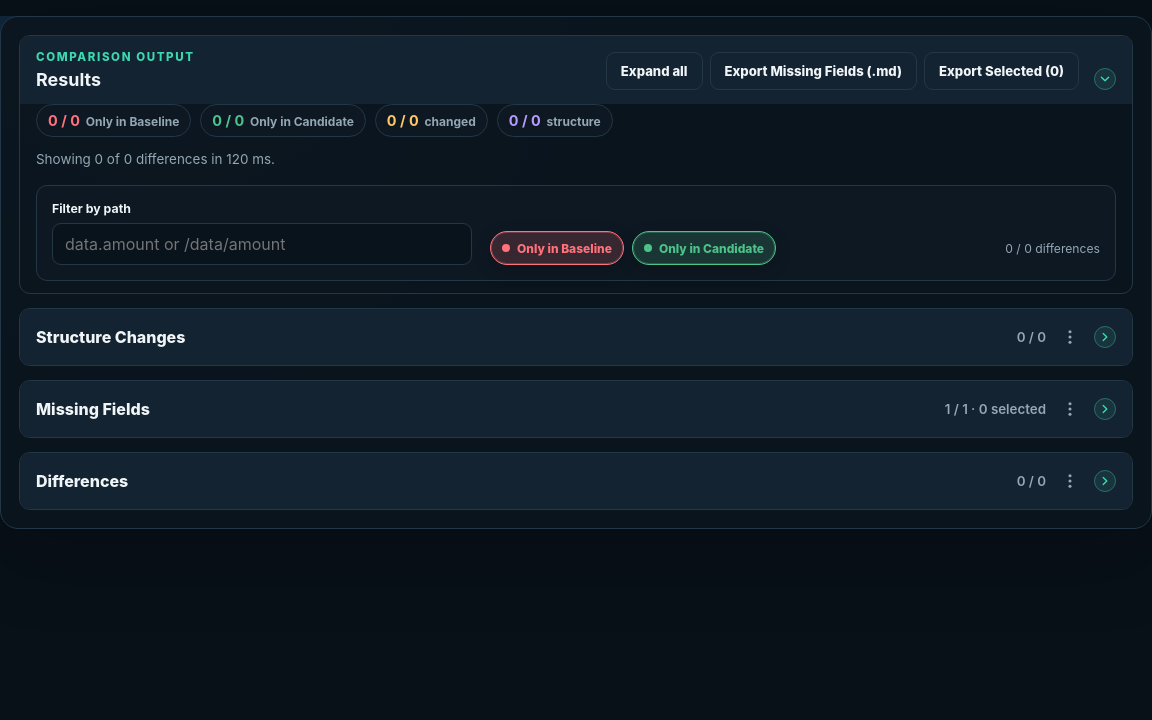
it: ComparisonResults disclosures › opens a section action menu without toggling the disclosure
The width and height of the screenshot is (1152, 720).
Click the button named "Missing Fields actions".
click(1070, 409)  # box [1056,395,1084,423]
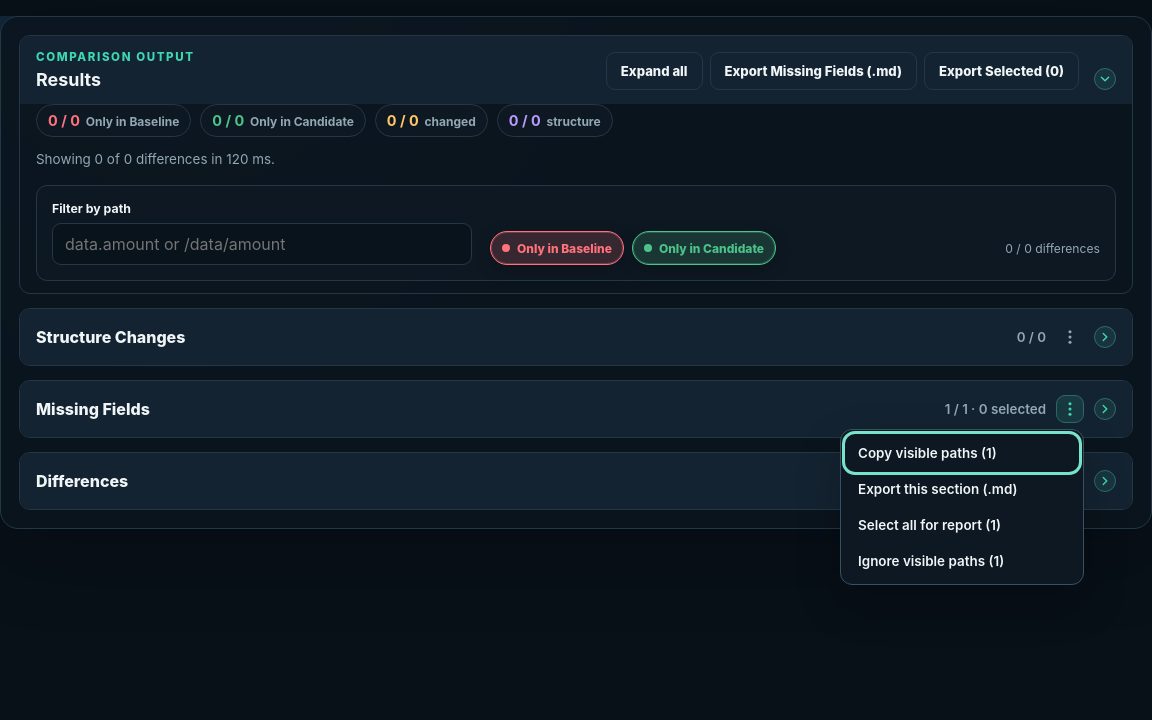
Expected: the button named "Missing Fields actions" is expanded, [1056,395,1084,423]
Expected: the menu named "Missing Fields actions" is shown, [840,429,1084,585]
